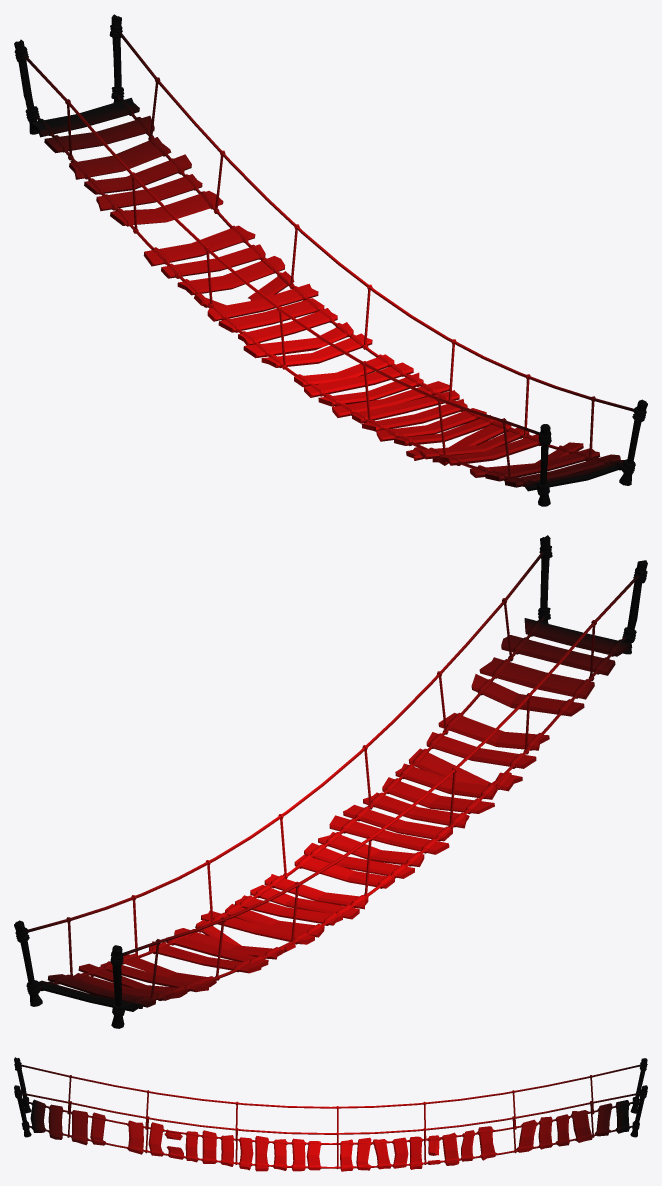
The model's file is trp_ropebridge.glb.
The picture shows the model from 3 angles, top to bottom: view 1: azimuth 30°, elevation 25°; view 2: azimuth 150°, elevation 25°; view 3: azimuth 270°, elevation 25°; orthographic projection. The views are drawn at different scales.
Parts seen in each view (by area): view 1: SM_Bld_RopeBridge_01; view 2: SM_Bld_RopeBridge_01; view 3: SM_Bld_RopeBridge_01.
Boxes of the visible parts, x1,y1,x2,y2 form: SM_Bld_RopeBridge_01: (14, 14, 647, 506); SM_Bld_RopeBridge_01: (14, 535, 647, 1028); SM_Bld_RopeBridge_01: (14, 1057, 647, 1171).
Size of the model in its own units: 1.95 by 2.43 by 15.56.
1 material, 1 textured.
